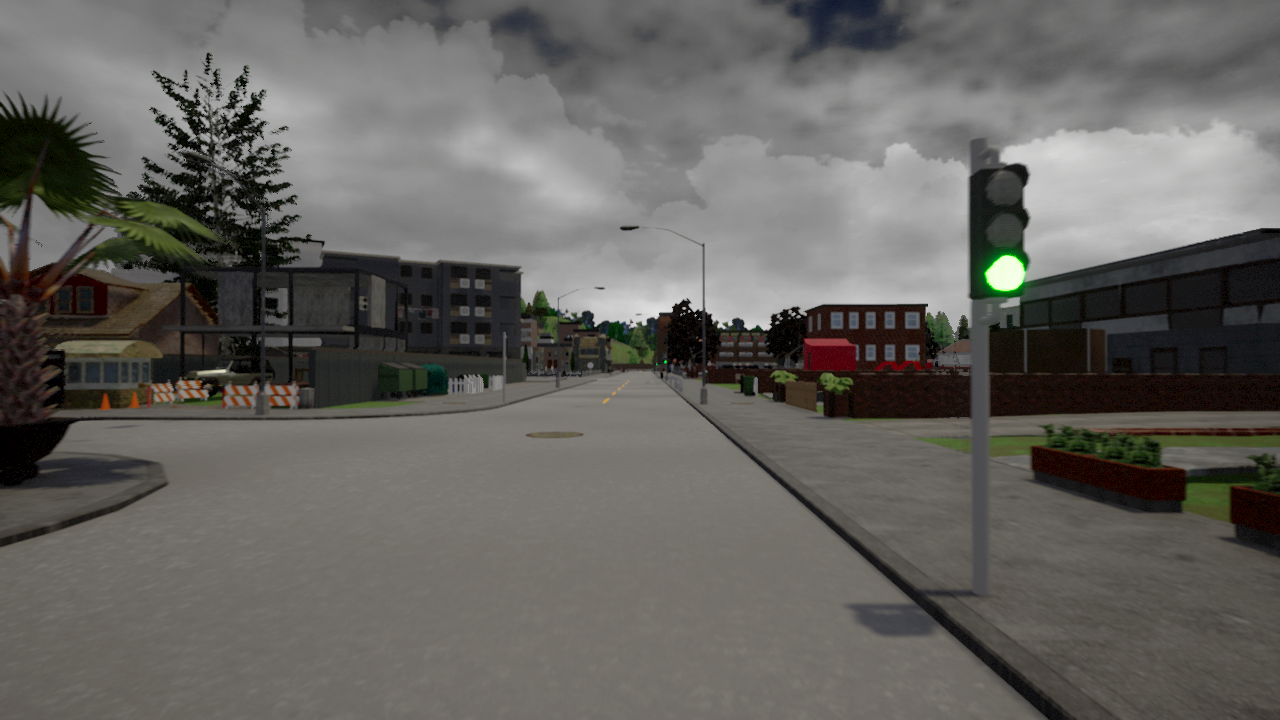green: (969, 159, 1035, 293)
